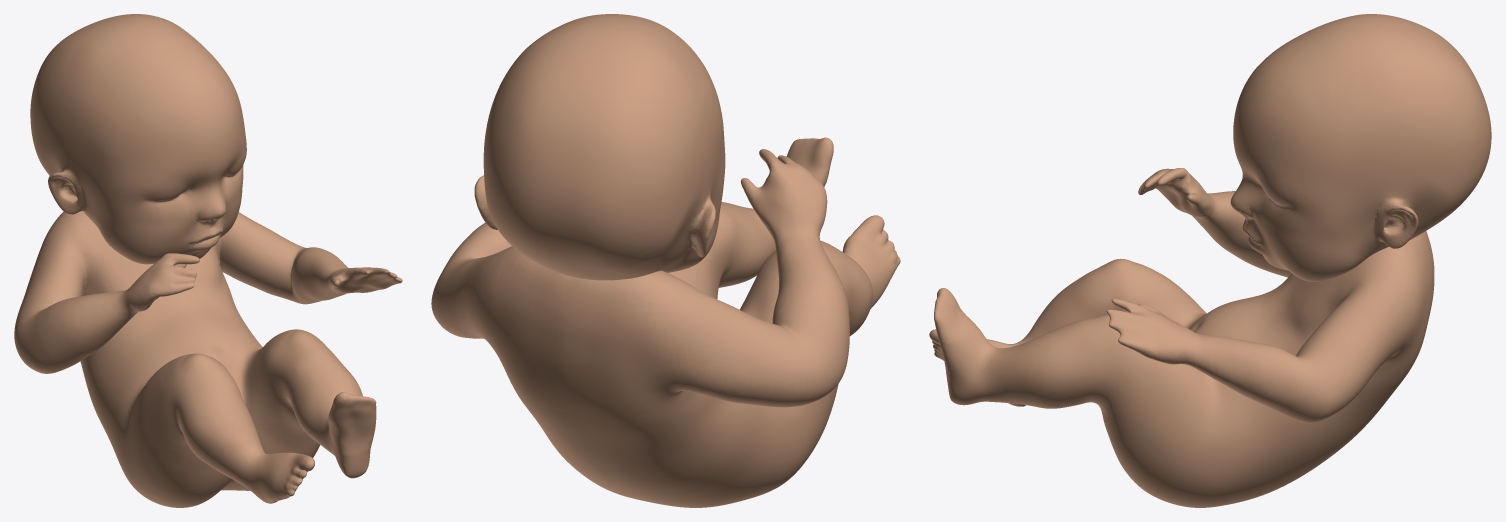
Rendered from baby_fix.glb.
3 views of the same model, side by side, from view 1: azimuth 30°, elevation 25°; view 2: azimuth 150°, elevation 25°; view 3: azimuth 270°, elevation 25° (orthographic). The views are drawn at different scales.
Parts seen in each view (by area): view 1: babytesta_obj_1, babycorpo_obj_1__0.003, babycorpo_obj_1__0.002, babycorpo_obj_1__0.001, babycorpo_obj_1, babycorpo_obj_1__0.004; view 2: babytesta_obj_1, babycorpo_obj_1, babycorpo_obj_1__0.002, babycorpo_obj_1__0.001, babycorpo_obj_1__0.003; view 3: babytesta_obj_1, babycorpo_obj_1__0.002, babycorpo_obj_1__0.003, babycorpo_obj_1__0.001, babycorpo_obj_1, babycorpo_obj_1__0.004.
Part boxes in pixels (box(x1,y1,x2,y2)): babytesta_obj_1: box(30, 14, 246, 264); babycorpo_obj_1__0.003: box(27, 249, 401, 505); babycorpo_obj_1__0.002: box(17, 246, 380, 507); babycorpo_obj_1__0.001: box(14, 212, 303, 506); babycorpo_obj_1: box(26, 211, 402, 502); babycorpo_obj_1__0.004: box(19, 262, 402, 497); babytesta_obj_1: box(474, 14, 725, 280); babycorpo_obj_1: box(446, 137, 900, 477); babycorpo_obj_1__0.002: box(443, 149, 849, 507); babycorpo_obj_1__0.001: box(431, 255, 835, 506); babycorpo_obj_1__0.003: box(474, 138, 900, 496); babytesta_obj_1: box(1230, 14, 1491, 281); babycorpo_obj_1__0.002: box(1148, 168, 1313, 507); babycorpo_obj_1__0.003: box(929, 172, 1292, 506); babycorpo_obj_1__0.001: box(1148, 256, 1370, 496); babycorpo_obj_1: box(929, 168, 1434, 425); babycorpo_obj_1__0.004: box(936, 259, 1421, 487).
Size of the model in its own units: 0.5148 by 0.669 by 0.7395.
